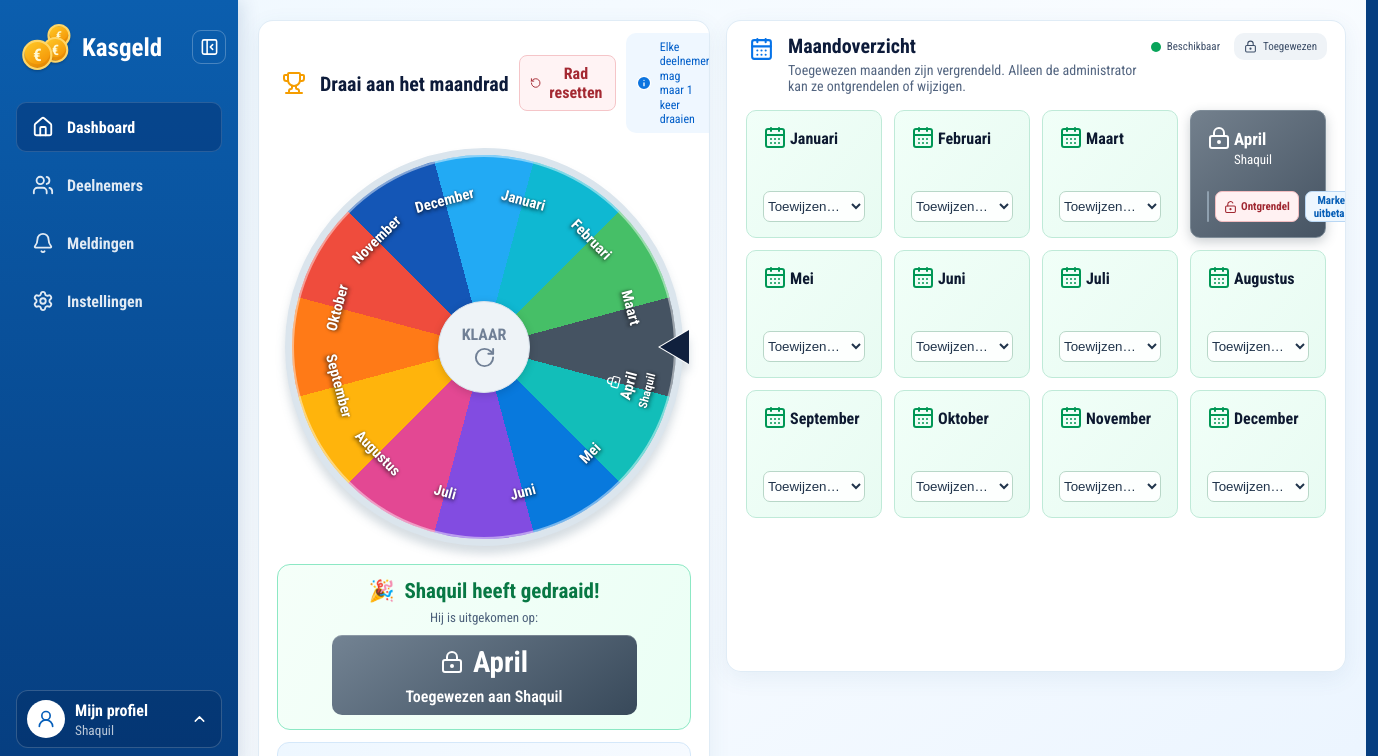
Test: Kasgeld dashboard › draait het maandrad en registreert daarna activiteit
This screenshot has width=1378, height=756.
What coordinates should you click on to do the following:
click the button "Rad resetten"
I would click on:
 (567, 83)
Its box is 519,55 -> 616,111.
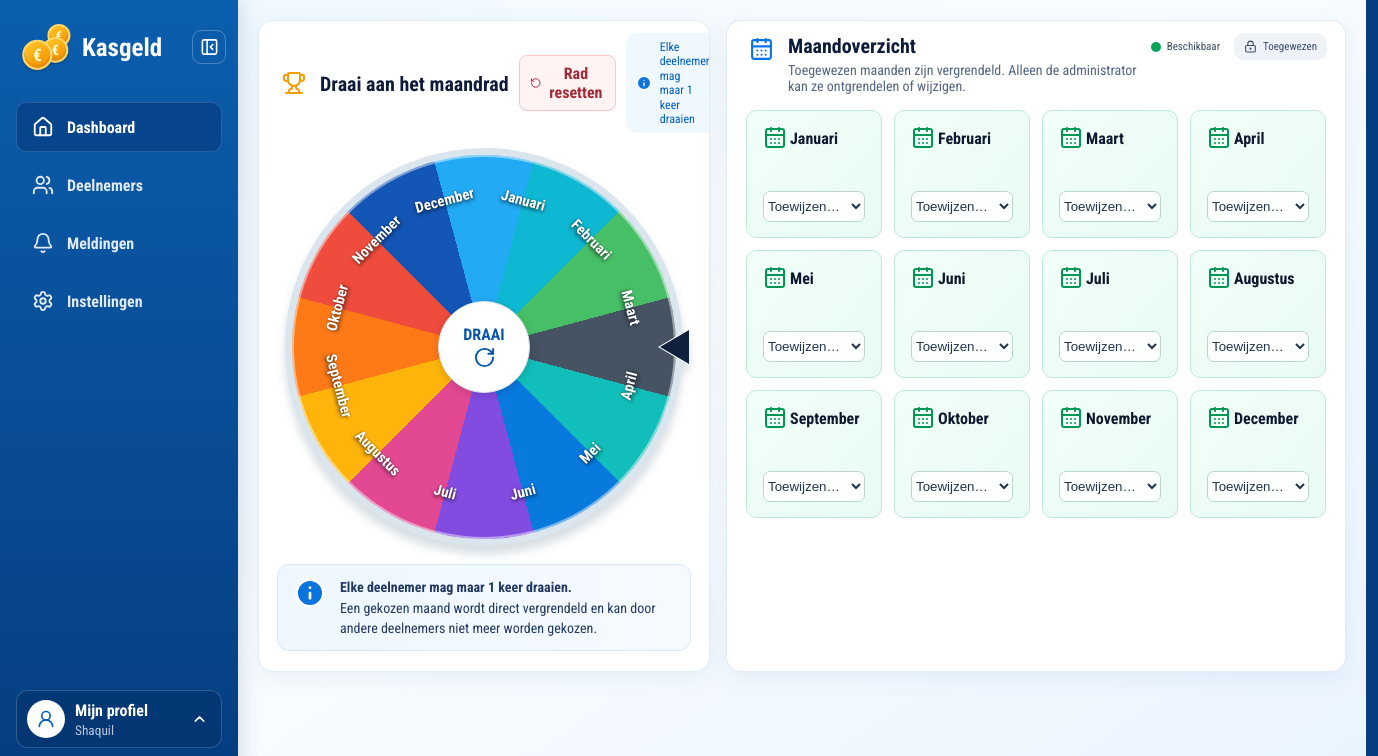
What coordinates should you click on to do the following:
click the button "DRAAI"
I would click on:
 (484, 347)
Its box is 438,301 -> 530,393.
Wait 1800 ms
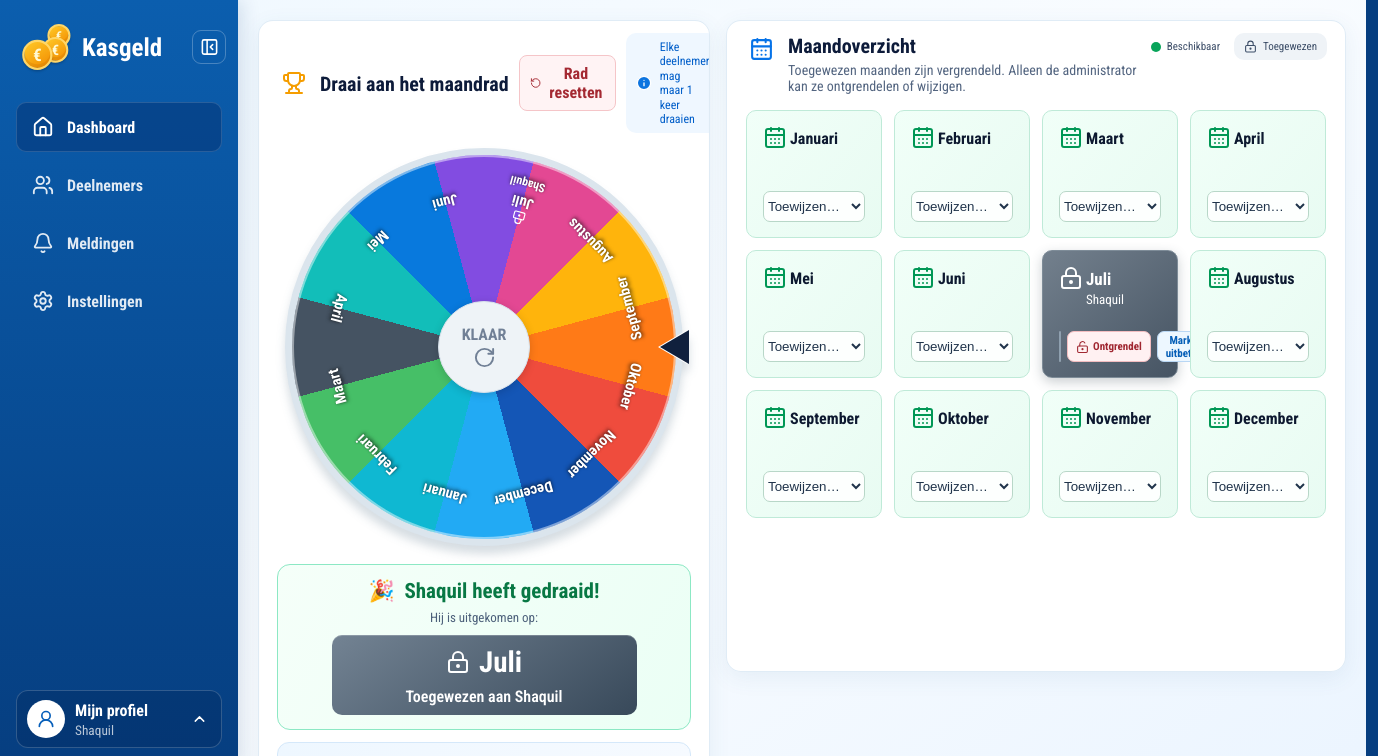
expect the button named "DRAAI" is disabled: met, box 438,301 -> 530,393
What coordinates should you click on to do the following:
click the button "Meldingen"
I would click on:
 (119, 243)
Its box is 16,218 -> 222,268.
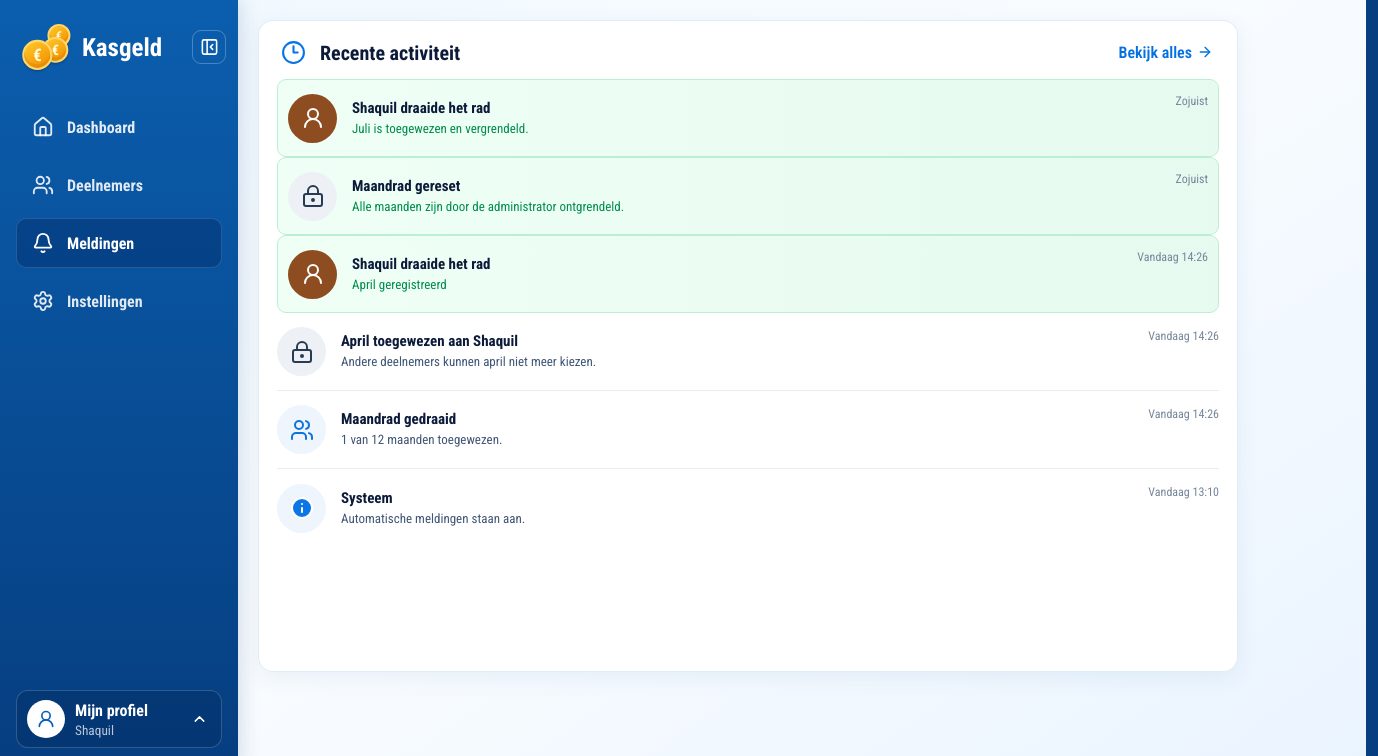
expect the text "Juli is toegewezen en vergrendeld." is shown: met, box 352,121 -> 529,136
